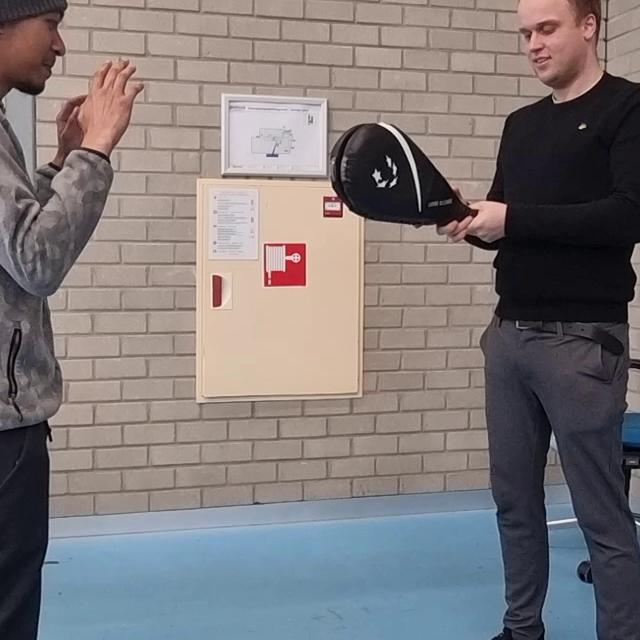paddle: (325, 123, 474, 225)
